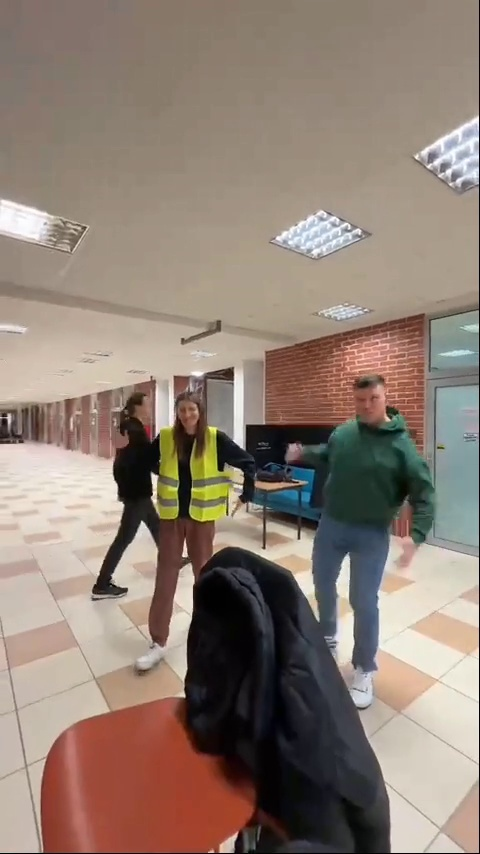no vest: (295, 371, 430, 688), (106, 385, 167, 600)
vest: (156, 397, 257, 668)
